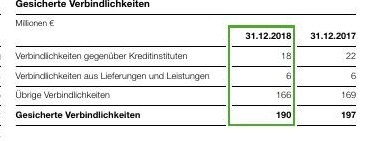table: (0, 0, 372, 141)
